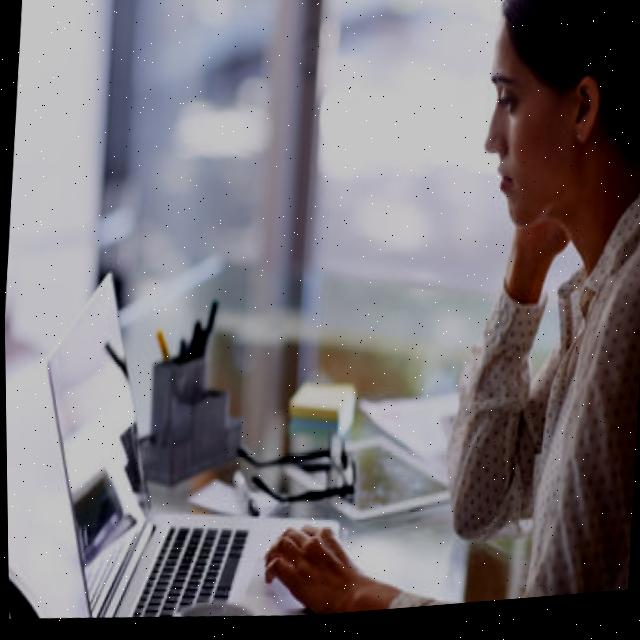notebook-person: (14, 0, 640, 639)
